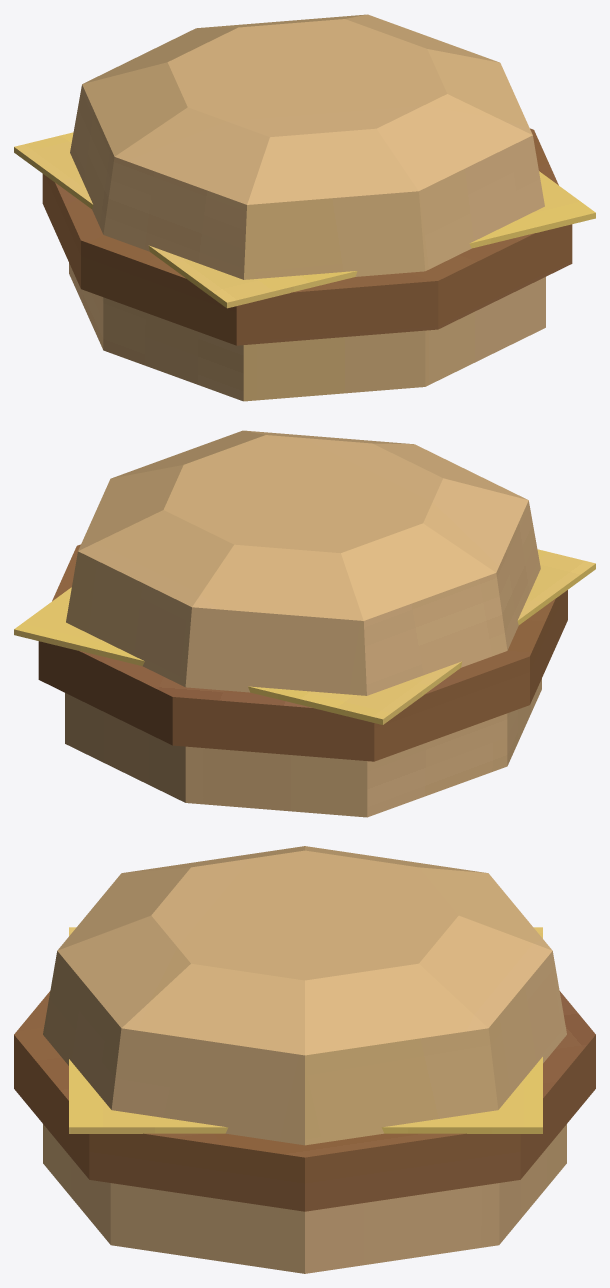
Rendered from 92eda4d1-13d1-4967-85a3-00167a48d0d0.glb.
3 views of the same model, one above another, from view 1: azimuth 30°, elevation 25°; view 2: azimuth 150°, elevation 25°; view 3: azimuth 270°, elevation 25° (orthographic). The views are drawn at different scales.
Visible parts, largest first — view 1: Cube.018_Cube.028; view 2: Cube.018_Cube.028; view 3: Cube.018_Cube.028.
Boxes of the visible parts, x1=… form: Cube.018_Cube.028: x1=14, y1=14, x2=595, y2=401; Cube.018_Cube.028: x1=14, y1=430, x2=595, y2=817; Cube.018_Cube.028: x1=14, y1=846, x2=595, y2=1273.
Size of the model in its own units: 0.8425 by 0.3956 by 0.8425.
Materials: 1 (1 with a texture image).
